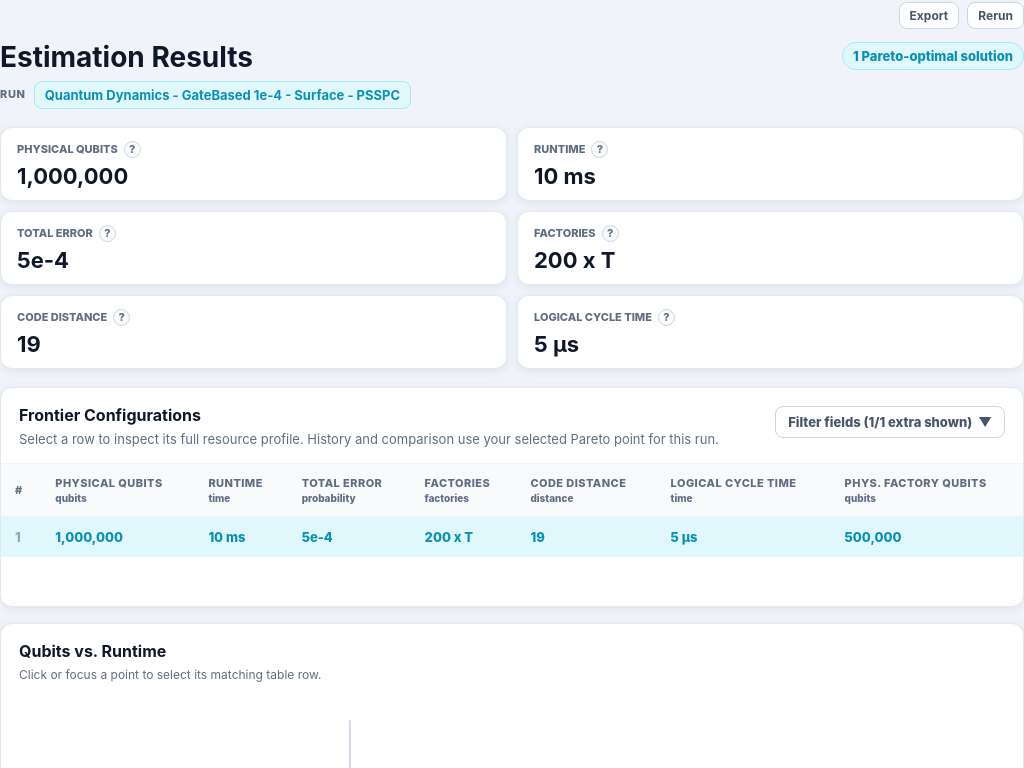
Scenario: Results page saved-run actions › resolves the saved record and reuses the run export dialog
This screenshot has width=1024, height=768.
Step 1. Click the button "Export" → (929, 15), box left=899, top=2, right=959, bottom=28
(page scrolled)
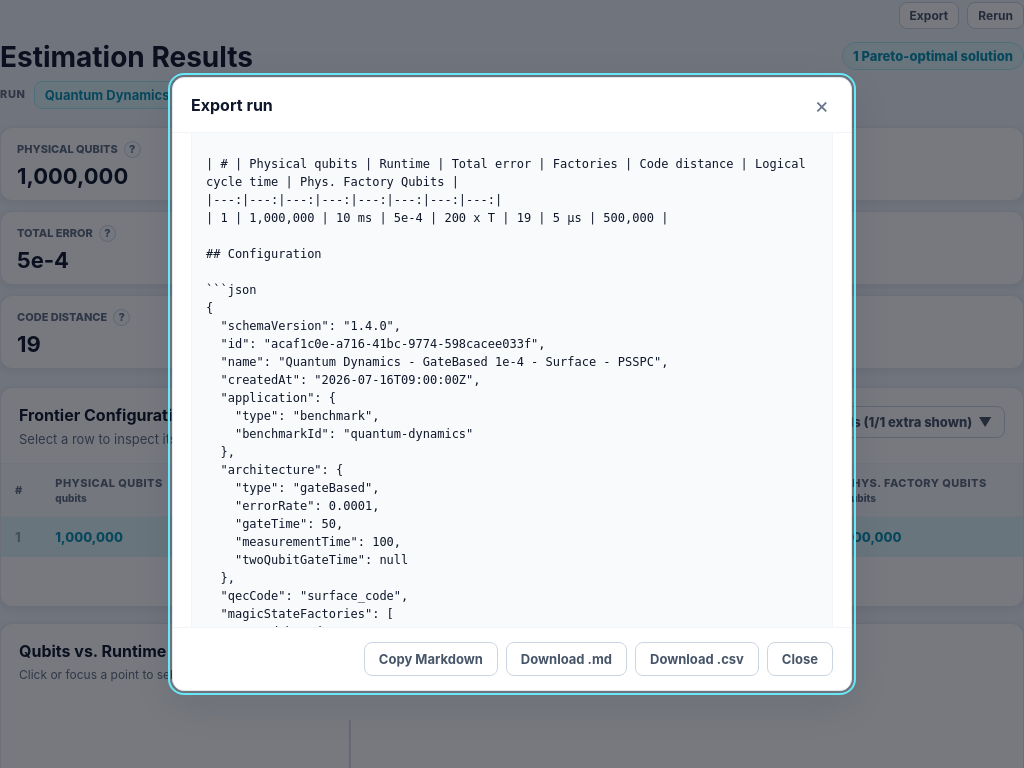
Expected: the heading "Export run" is shown, left=191, top=95, right=273, bottom=115
